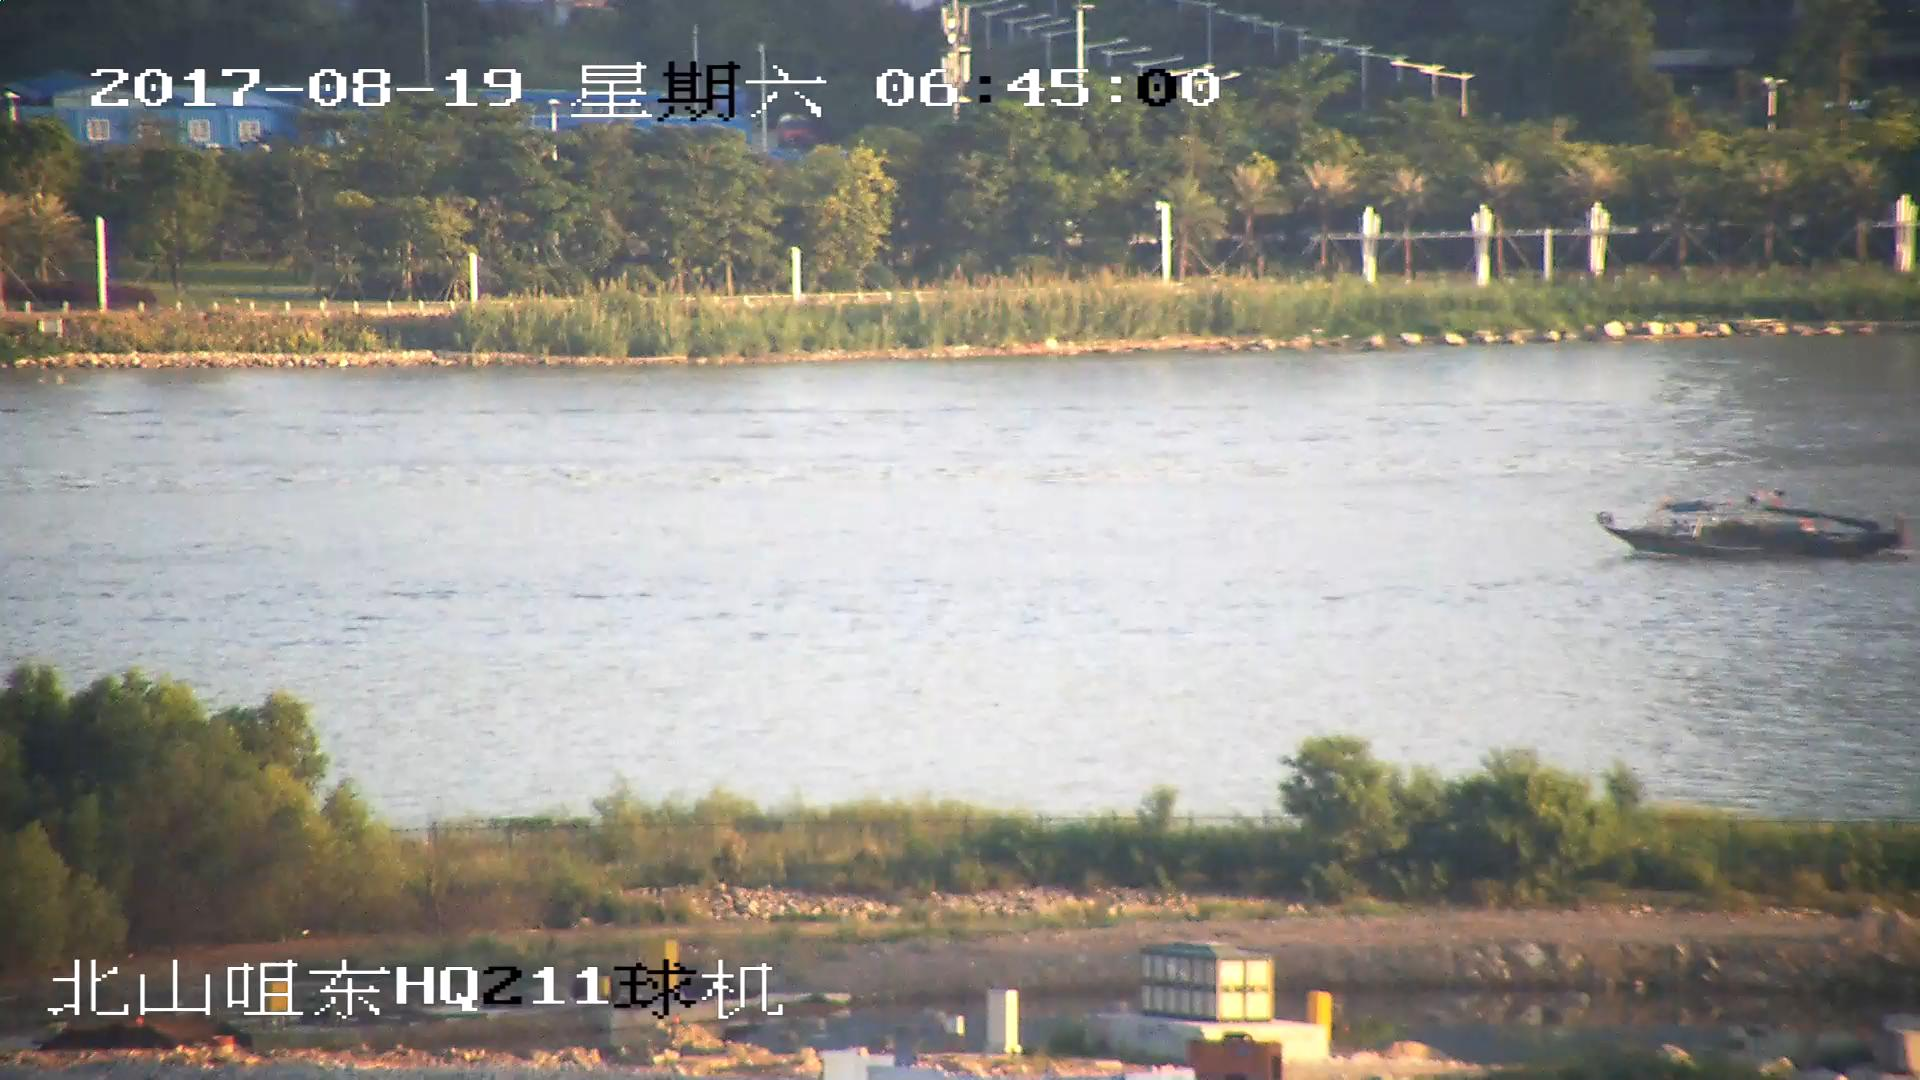fishing boat: (1599, 485, 1901, 564)
